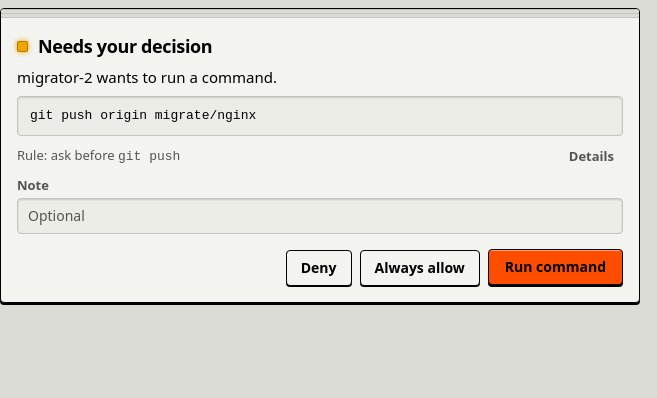
it: the card that waits › opens Details with the tool and the input, and never the rule id of the backend
Click the button with class "details-key". click: (591, 156)
box: [560,144,623,168]
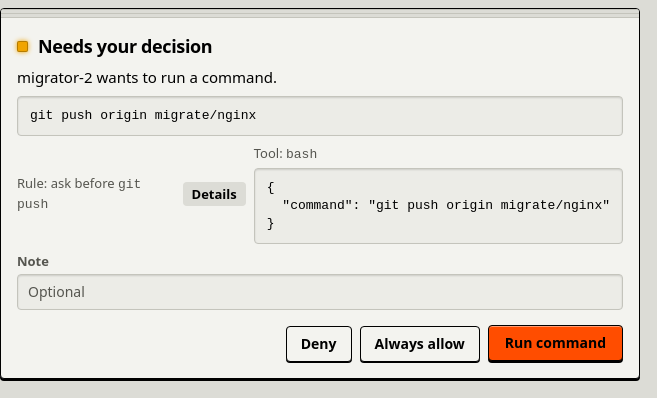
Expected: the button with class "details-key" is expanded, [182,182,246,206]
Expected: the element with class "details" shows "Tool: bash", [254,144,623,244]
Expected: the element with class "details" shows "\"command\": \"git push origin migrate/nginx\"", [267,180,610,231]
